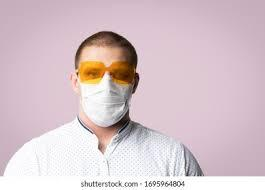mask: (75, 73, 139, 129)
sunglasses: (76, 57, 139, 92)
